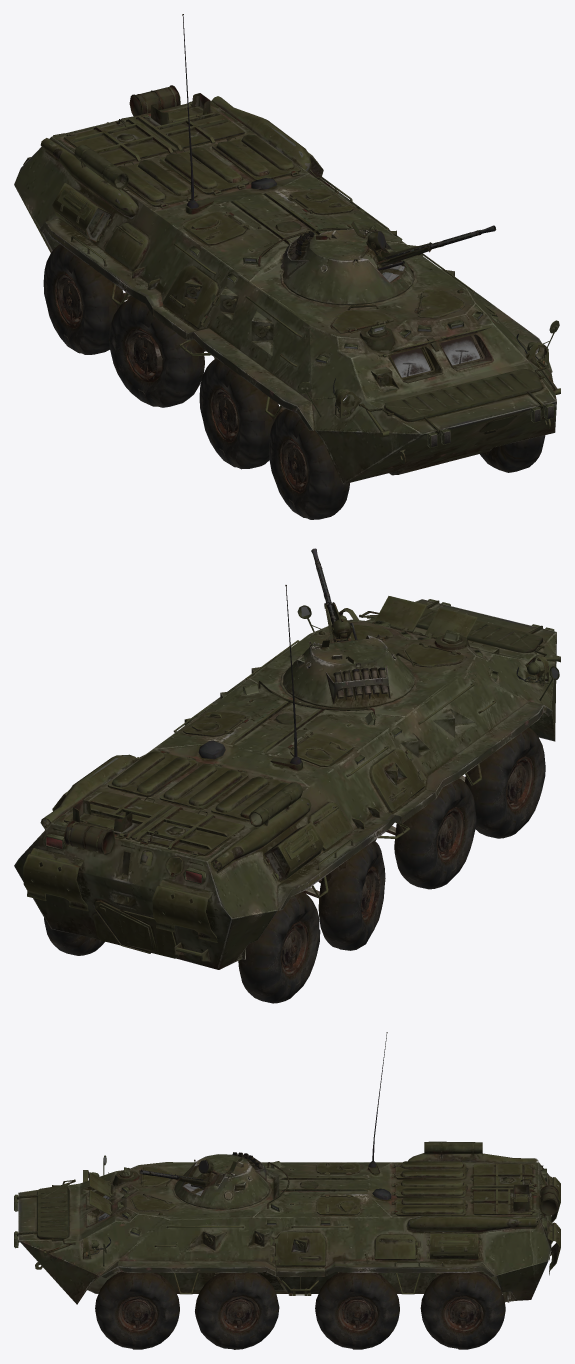
File: btr80.glb
The picture shows the model from 3 angles, top to bottom: view 1: azimuth 30°, elevation 25°; view 2: azimuth 150°, elevation 25°; view 3: azimuth 270°, elevation 25°; orthographic projection. The views are drawn at different scales.
Visible parts, largest first — view 1: Turret_MetalBase_0, Turret_Details_0, Wheels_Wheels_0, MainFrame_Lights_0; view 2: Turret_MetalBase_0, Turret_Details_0, Wheels_Wheels_0, MainFrame_Lights_0; view 3: Turret_MetalBase_0, Turret_Details_0, Wheels_Wheels_0, MainFrame_Lights_0.
Part boxes in pixels (bbox=[...]): Turret_MetalBase_0: bbox=[14, 101, 556, 484]; Turret_Details_0: bbox=[23, 14, 560, 464]; Wheels_Wheels_0: bbox=[43, 244, 545, 519]; MainFrame_Lights_0: bbox=[189, 207, 559, 448]; Turret_MetalBase_0: bbox=[14, 599, 556, 969]; Turret_Details_0: bbox=[23, 548, 560, 961]; Wheels_Wheels_0: bbox=[44, 727, 545, 1003]; MainFrame_Lights_0: bbox=[43, 599, 559, 884]; Turret_MetalBase_0: bbox=[18, 1154, 551, 1304]; Turret_Details_0: bbox=[17, 1032, 560, 1295]; Wheels_Wheels_0: bbox=[95, 1271, 505, 1349]; MainFrame_Lights_0: bbox=[14, 1155, 546, 1266].
Bounding box in the file's own units: 3.08 × 4.08 × 7.7.
Materials: 4 (4 with a texture image).
